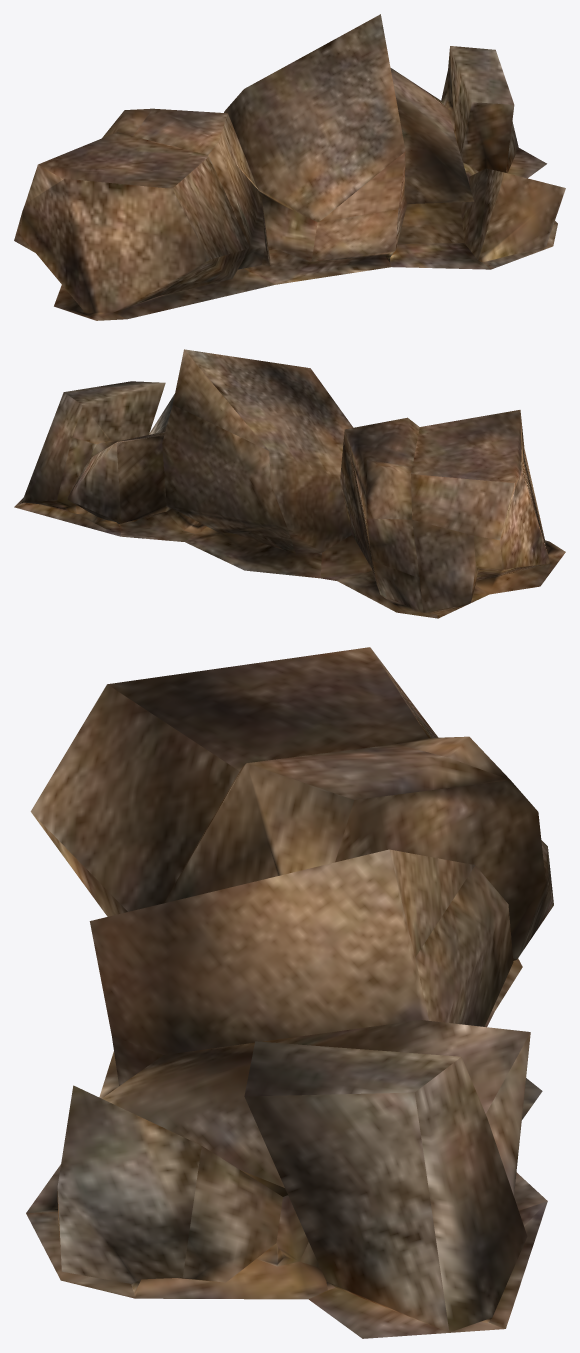
The model's file is namaqualand_boulder_02.glb.
3 views of the same model, one above another, from view 1: azimuth 30°, elevation 25°; view 2: azimuth 150°, elevation 25°; view 3: azimuth 270°, elevation 25° (orthographic). The views are drawn at different scales.
Parts seen in each view (by area): view 1: boulder_02; view 2: boulder_02; view 3: boulder_02.
Part boxes in pixels (<box>): boulder_02: <box>14,14,565,320</box>; boulder_02: <box>14,349,565,618</box>; boulder_02: <box>26,647,553,1338</box>.
Bounding box in the file's own units: 2.4 × 0.8562 × 1.14.
Materials: 1 (1 with a texture image).
